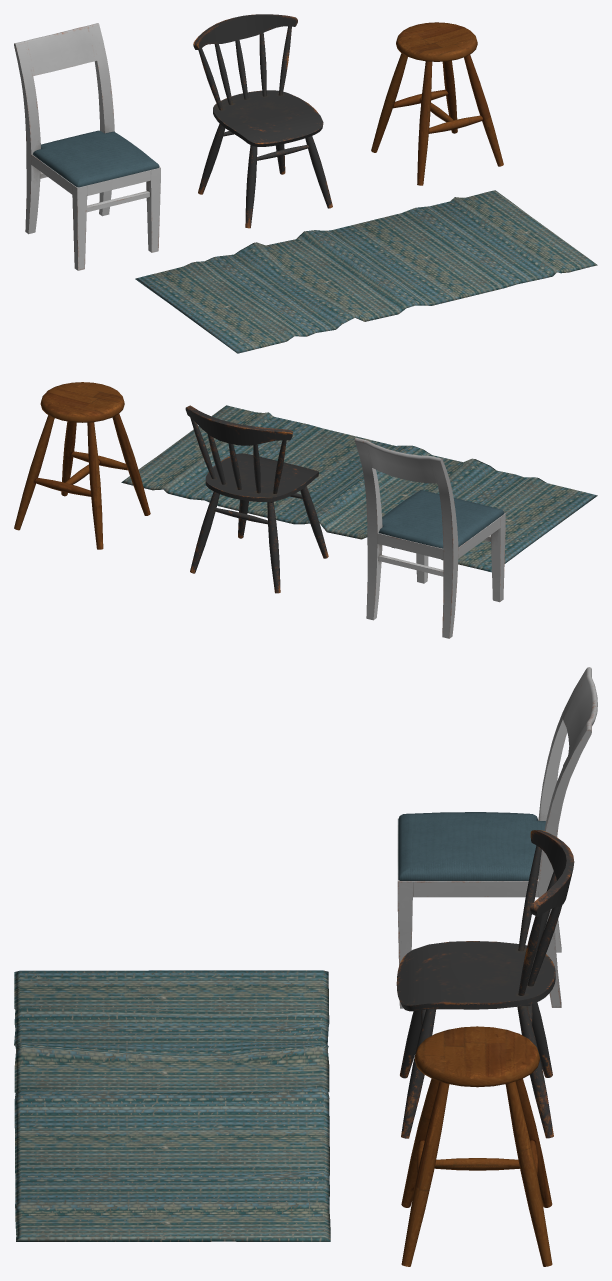
File: Sillasitled.fbx
3 renders of one model, top to bottom at view 1: azimuth 30°, elevation 25°; view 2: azimuth 150°, elevation 25°; view 3: azimuth 270°, elevation 25°, orthographic. The views are drawn at different scales.
Visible parts, largest first — view 1: Object_16, Object_12, Object_10, Object_14; view 2: Object_16, Object_12, Object_10, Object_14; view 3: Object_16, Object_12, Object_10, Object_14.
Boxes of the visible parts, x1=… form: Object_16: x1=135, y1=190, x2=597, y2=353; Object_12: x1=14, y1=23, x2=160, y2=270; Object_10: x1=193, y1=14, x2=332, y2=228; Object_14: x1=371, y1=22, x2=503, y2=185; Object_16: x1=121, y1=405, x2=597, y2=572; Object_12: x1=354, y1=437, x2=505, y2=638; Object_10: x1=185, y1=405, x2=328, y2=593; Object_14: x1=14, y1=382, x2=150, y2=549; Object_16: x1=14, y1=970, x2=330, y2=1241; Object_12: x1=397, y1=667, x2=597, y2=1008; Object_10: x1=396, y1=830, x2=574, y2=1138; Object_14: x1=401, y1=1026, x2=552, y2=1266.
Size of the model in its own units: 249 by 102 by 192.
2 materials, 2 textured.
